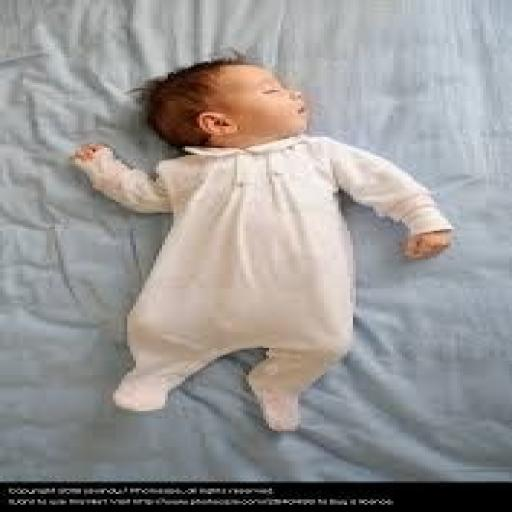sleeping: (67, 54, 457, 435)
